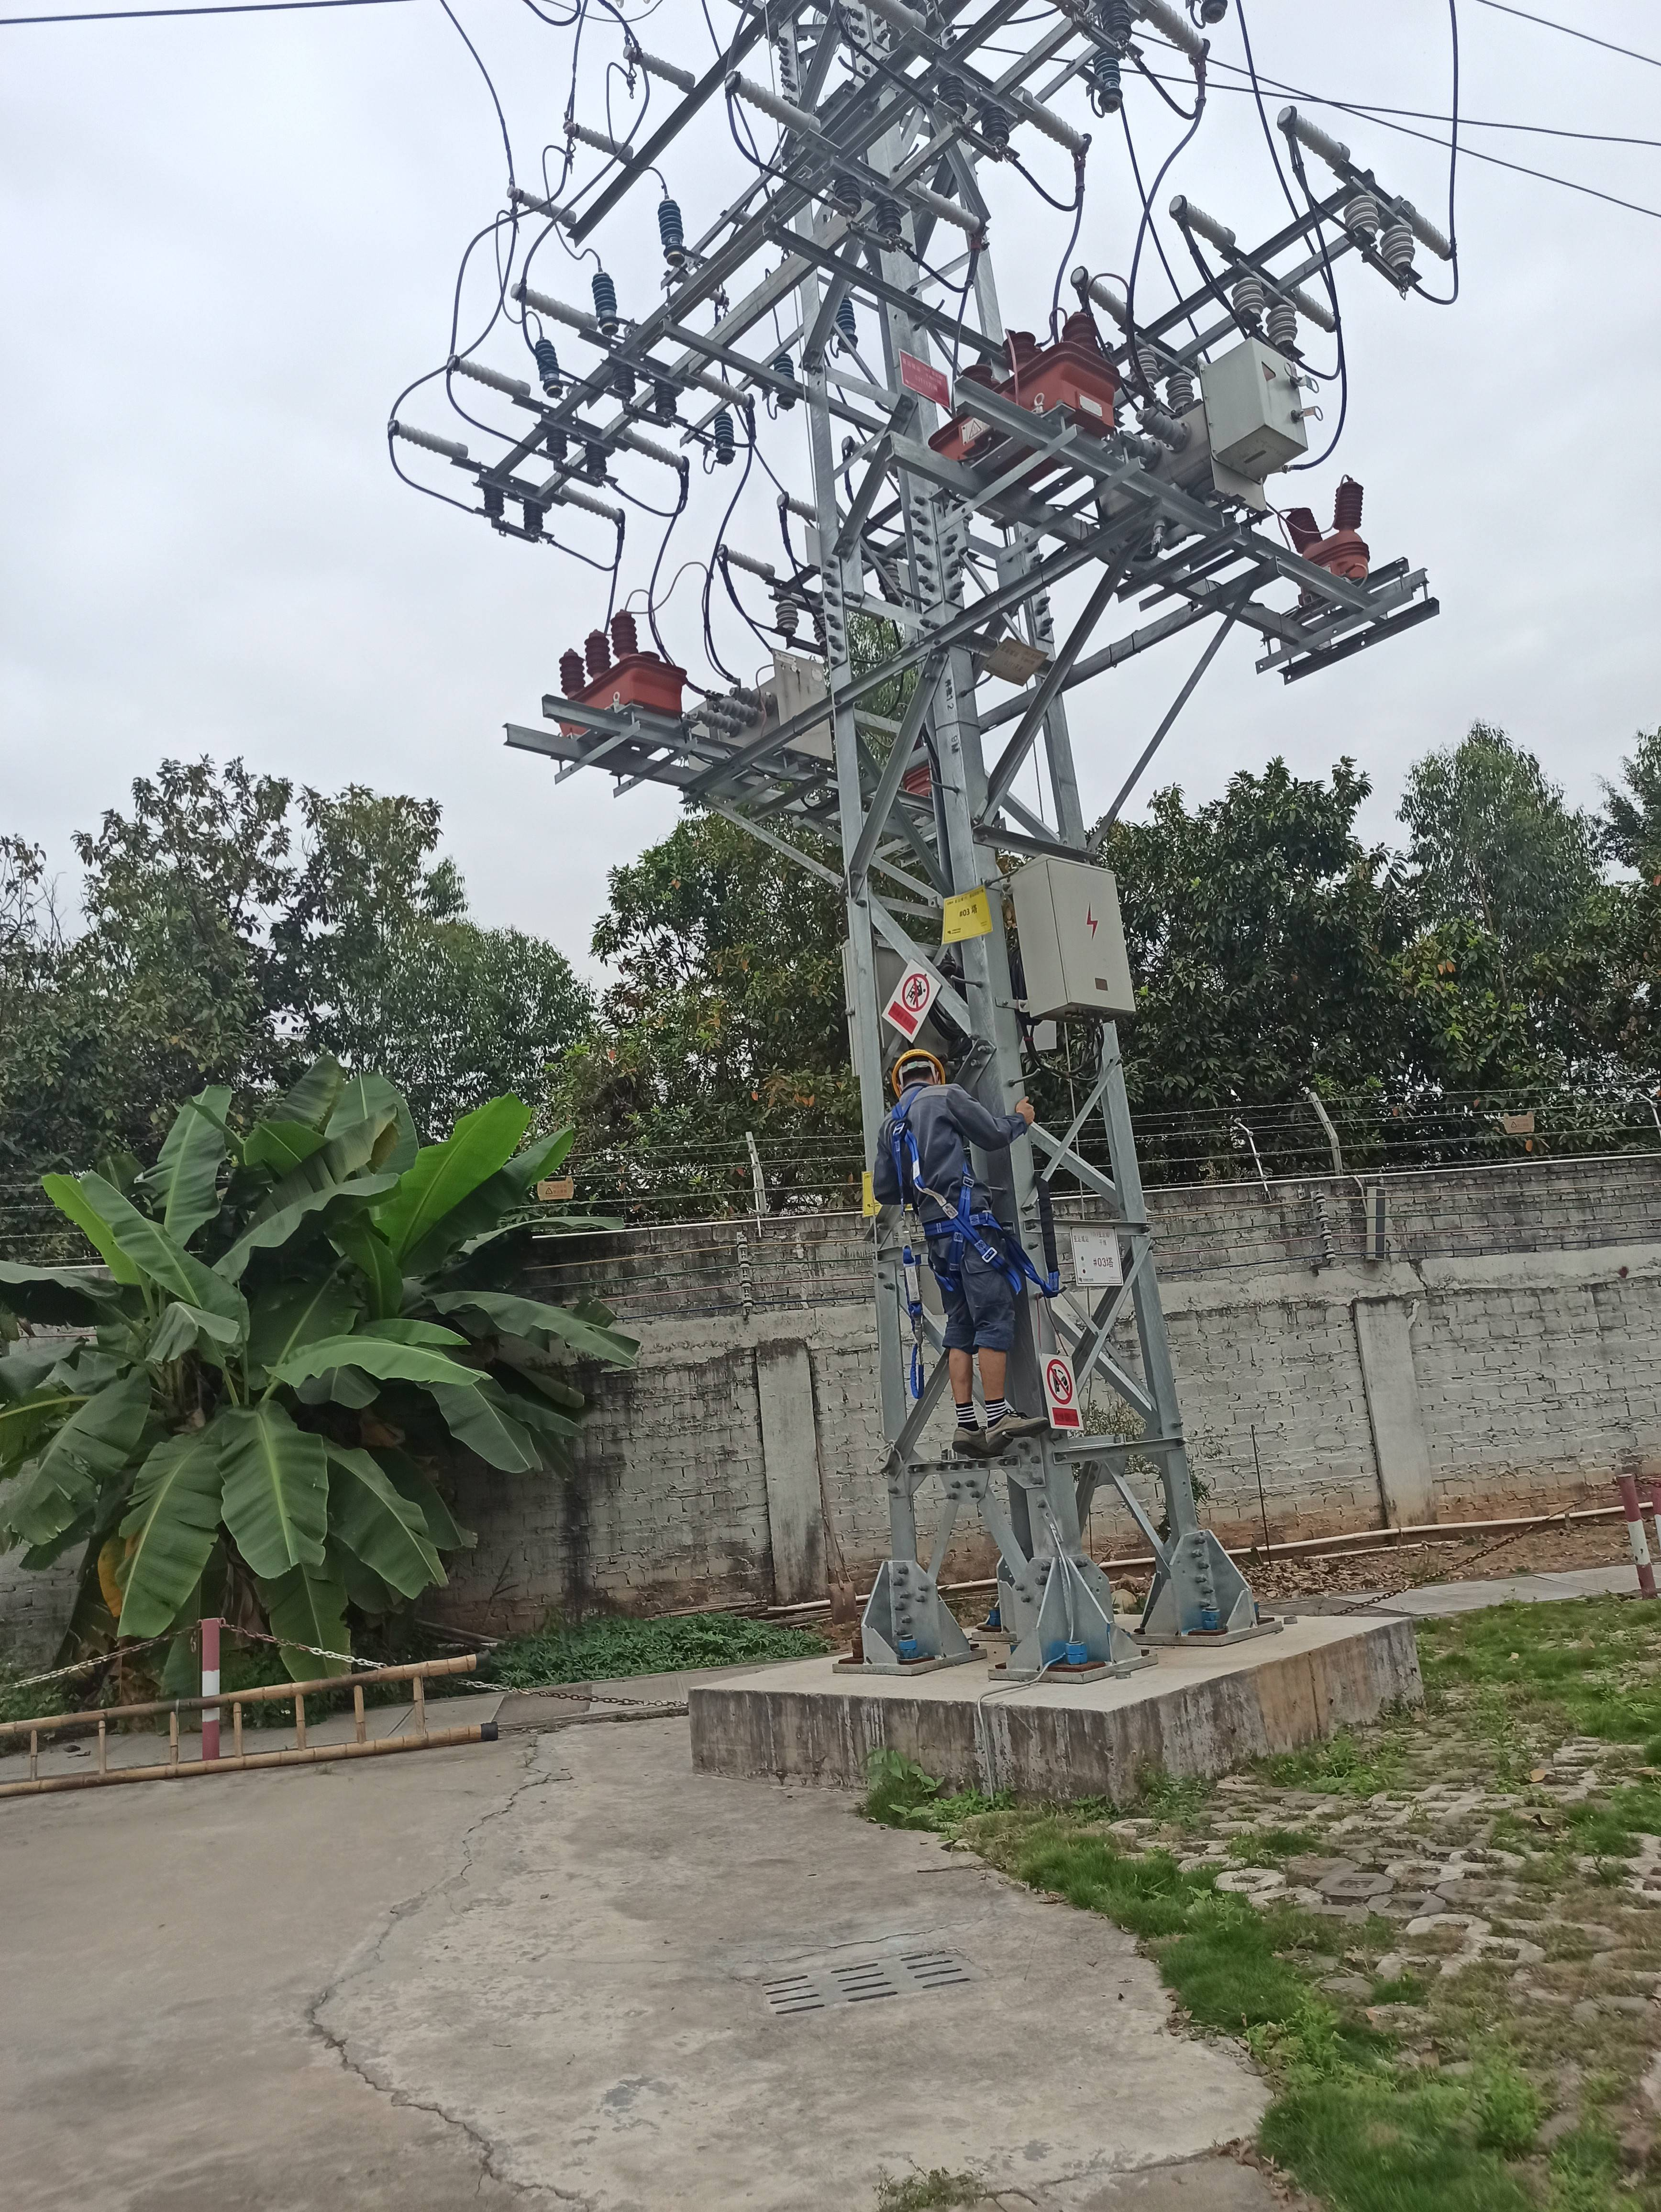downsuit: (923, 1228, 1015, 1355)
upsuit: (874, 1085, 1003, 1219)
wrongbottom: (939, 1324, 1015, 1417)
